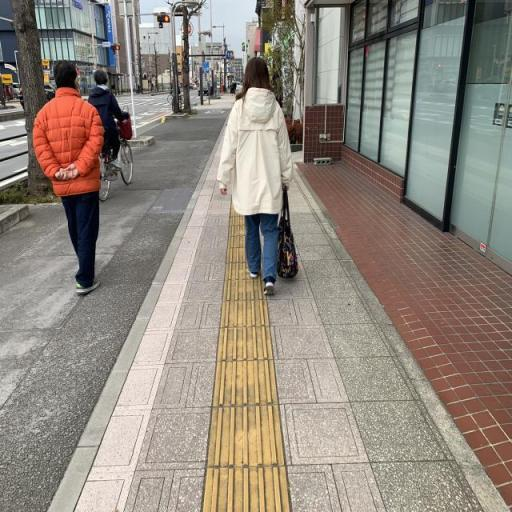line: (207, 406, 285, 468), (201, 466, 290, 511), (213, 360, 278, 407), (216, 326, 274, 361), (220, 300, 269, 327)
